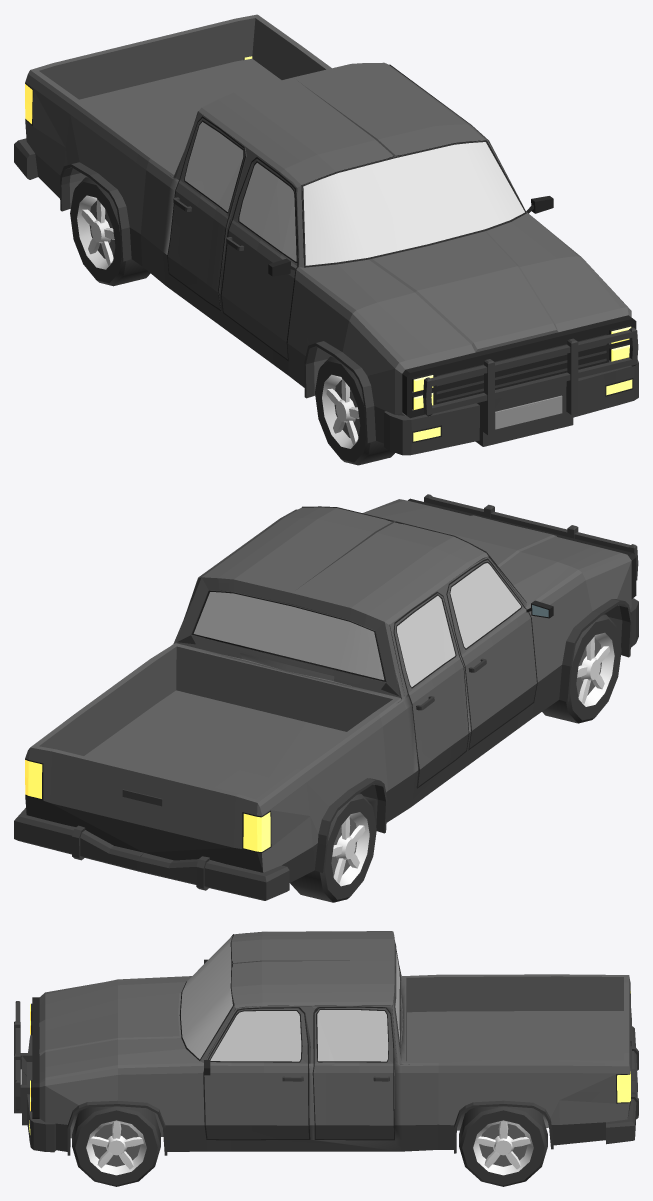
Rendered from pickup.fbx.
3 views of the same model, one above another, from view 1: azimuth 30°, elevation 25°; view 2: azimuth 150°, elevation 25°; view 3: azimuth 270°, elevation 25° (orthographic). The views are drawn at different scales.
Visible parts, largest first — view 1: Pick Up_9, Pick Up_9 R Door, Pick Up_9 L Door.003, Pick Up_9 BR Tire, Pick Up_9 FR Tire; view 2: Pick Up_9, Pick Up_9 R Door, Pick Up_9 L Door.003, Pick Up_9 BR Tire, Pick Up_9 FR Tire; view 3: Pick Up_9, Pick Up_9 L Door, Pick Up_9 L Door.002, Pick Up_9 FL Tire, Pick Up_9 BL Tire.
Part boxes in pixels (x1,y1,x2,y2): Pick Up_9: (14,14,638,455); Pick Up_9 R Door: (221,157,298,360); Pick Up_9 L Door.003: (167,116,246,310); Pick Up_9 BR Tire: (70,177,150,286); Pick Up_9 FR Tire: (315,356,394,465); Pick Up_9: (14,494,638,900); Pick Up_9 R Door: (446,558,553,750); Pick Up_9 L Door.003: (393,591,469,788); Pick Up_9 BR Tire: (290,793,376,902); Pick Up_9 FR Tire: (542,614,621,723); Pick Up_9: (14,931,638,1155); Pick Up_9 L Door: (203,1007,310,1140); Pick Up_9 L Door.002: (312,1006,394,1140); Pick Up_9 FL Tire: (72,1106,160,1186); Pick Up_9 BL Tire: (459,1106,547,1186).
Size of the model in its own units: 261 by 200 by 635.
